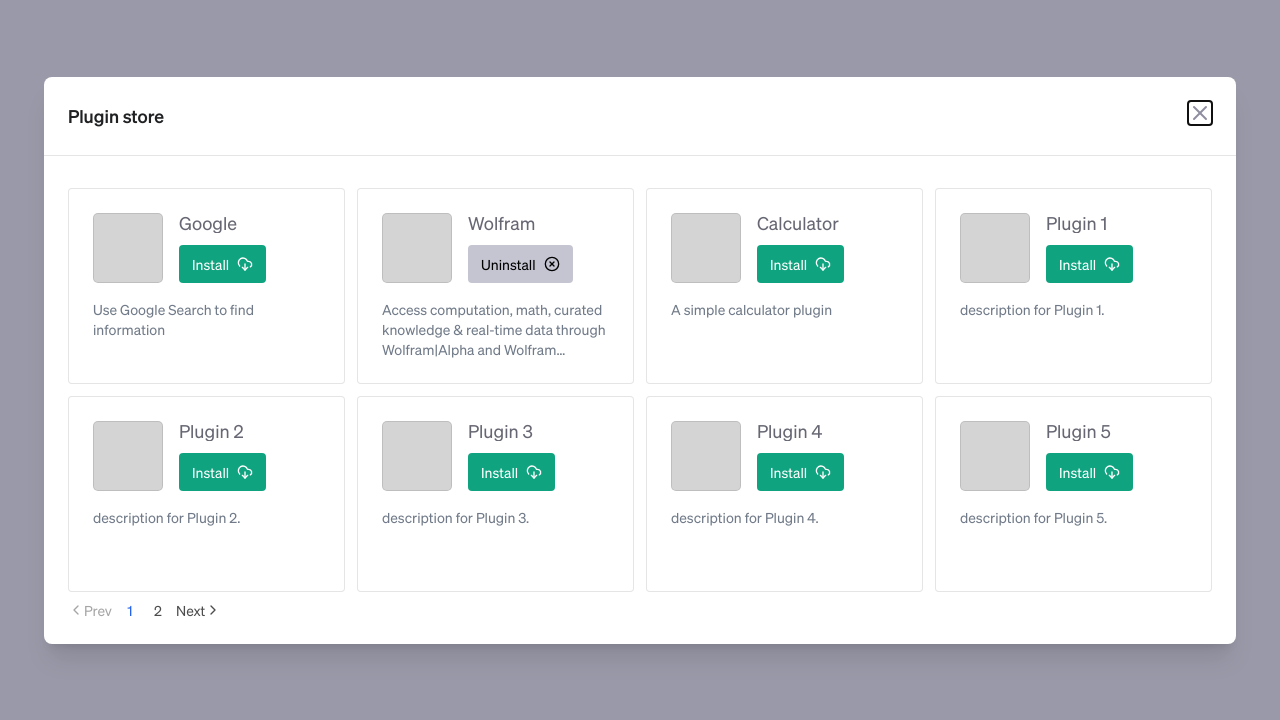
allows the user to navigate between pages
Expected: the text "Google" is shown, [179,212,237,232]
Expected: the text "Wolfram" is shown, [468,212,535,232]
Step 1. Click the button with aria-label "Next page" → (199, 610), box [176,600,221,620]
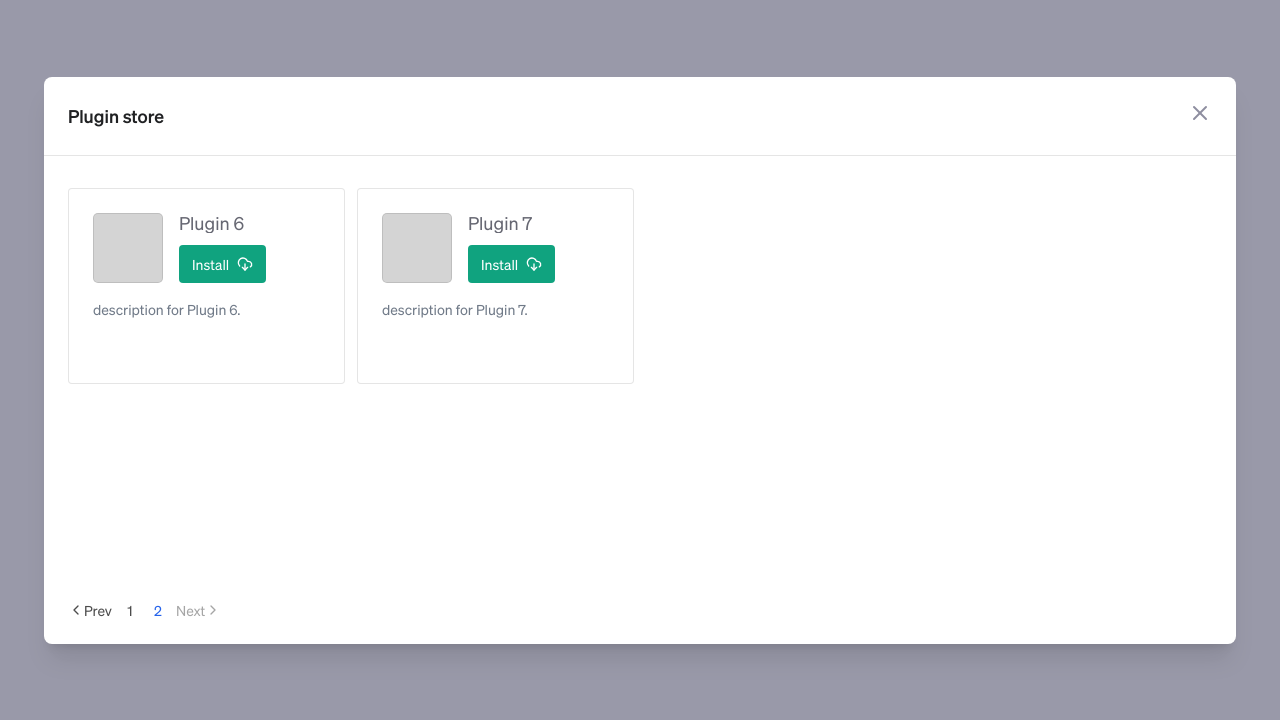
Now the text "Plugin 6" is shown, box [179,212,244,232]
Now the text "Plugin 7" is shown, box [468,212,532,232]
Step 2. Click the button with aria-label "Previous page" → (90, 610), box [68,600,112,620]
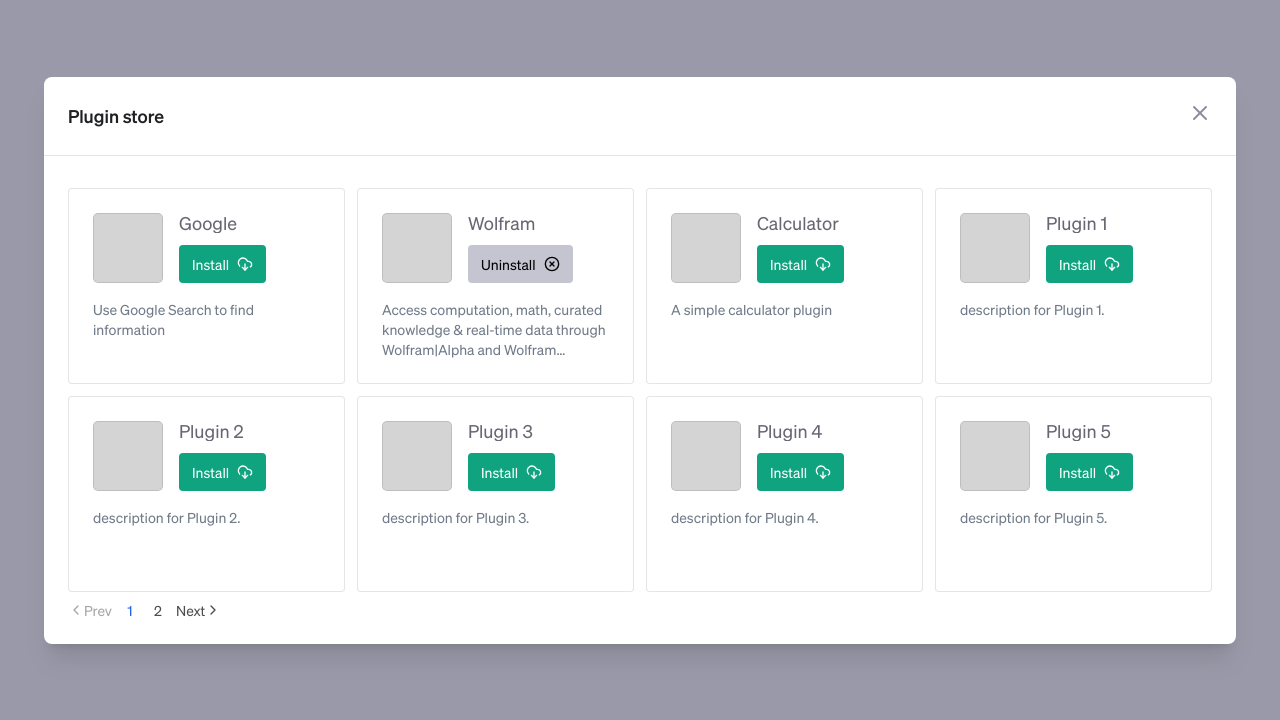
Now the text "Google" is shown, box [179,212,237,232]
Now the text "Wolfram" is shown, box [468,212,535,232]
Now the text "Plugin 1" is shown, box [1046,212,1107,232]
